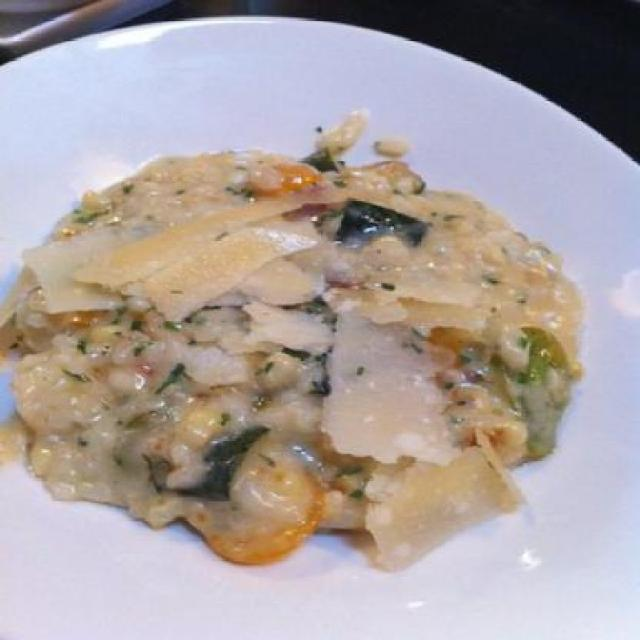Risotto: (19, 140, 602, 562)
